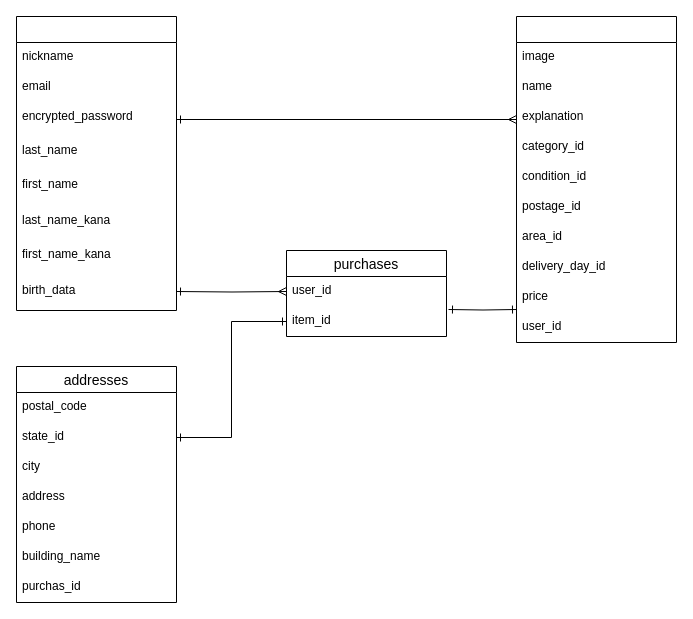
This 693x619 diagram has some shape labels left out. The shapes that lost their labels are listed below. From the top down, each one's box as (x1, y1, x2, y2) in pixels, then its label:
(16, 16, 176, 310): users
(516, 16, 676, 342): items
